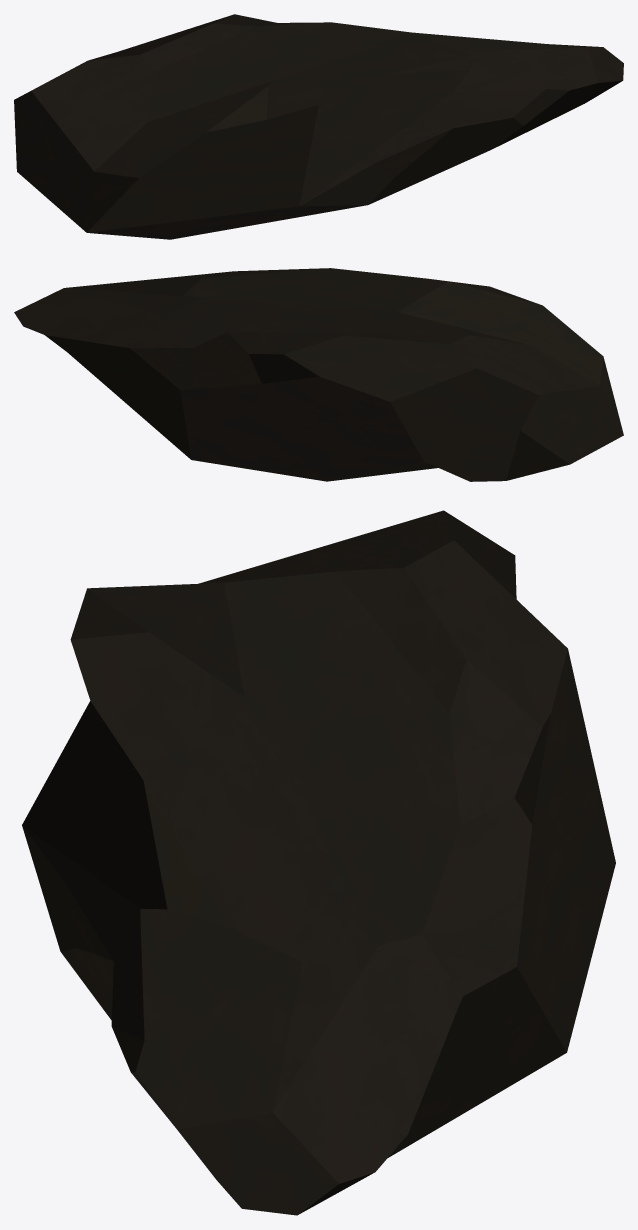
Rendered from flintstone.fbx.
3 views of the same model, one above another, from view 1: azimuth 30°, elevation 25°; view 2: azimuth 150°, elevation 25°; view 3: azimuth 270°, elevation 25° (orthographic). The views are drawn at different scales.
Visible parts, largest first — view 1: flintstone; view 2: flintstone; view 3: flintstone.
Boxes of the visible parts, bbox=[...] form: flintstone: bbox=[14, 14, 623, 239]; flintstone: bbox=[14, 268, 623, 481]; flintstone: bbox=[22, 510, 615, 1215].
Bounding box in the file's own units: 21.42 × 5.15 × 9.52.
